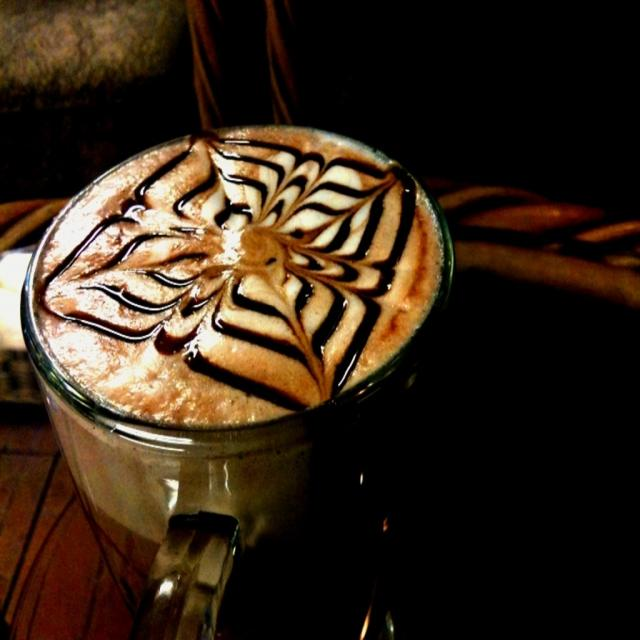Coffee: (17, 131, 440, 497)
